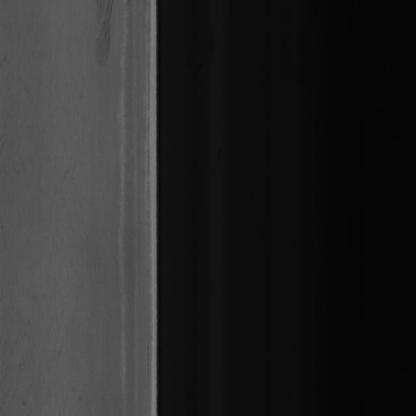water_spot: (94, 3, 124, 88)
